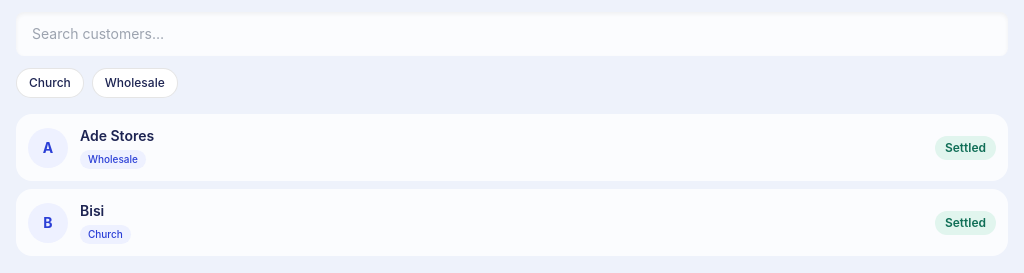
Scenario: Labels on the customers screen (§G) › says nobody has that label rather than showing a blank list
Expected: the text "Ade Stores" is shown, x1=80 y1=127 x2=154 y2=144
What coordinates should you click on to do the following:
click the button "Wholesale"
I would click on:
 (135, 83)
Its box is x1=92 y1=68 x2=178 y2=98.
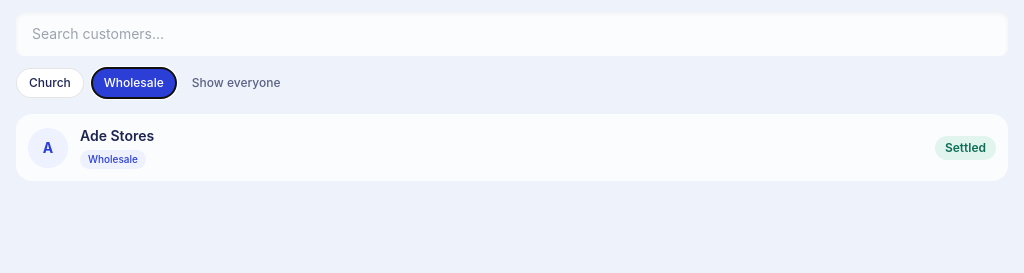
What coordinates should you click on to do the following:
click the button "Church"
I would click on:
 (50, 83)
Its box is x1=16 y1=68 x2=84 y2=98.
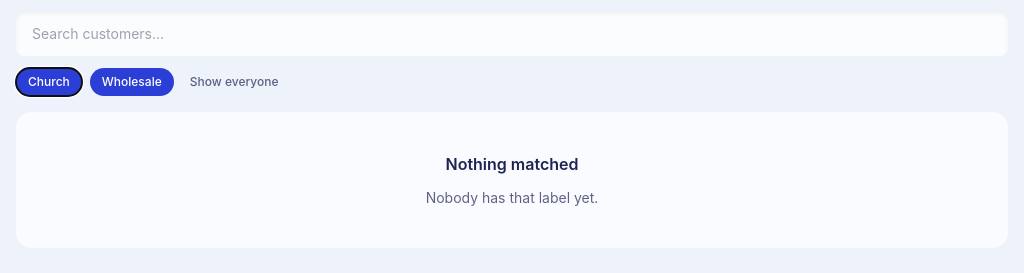
Result: the text "Nobody has that label yet." is shown at x1=426 y1=188 x2=598 y2=208
